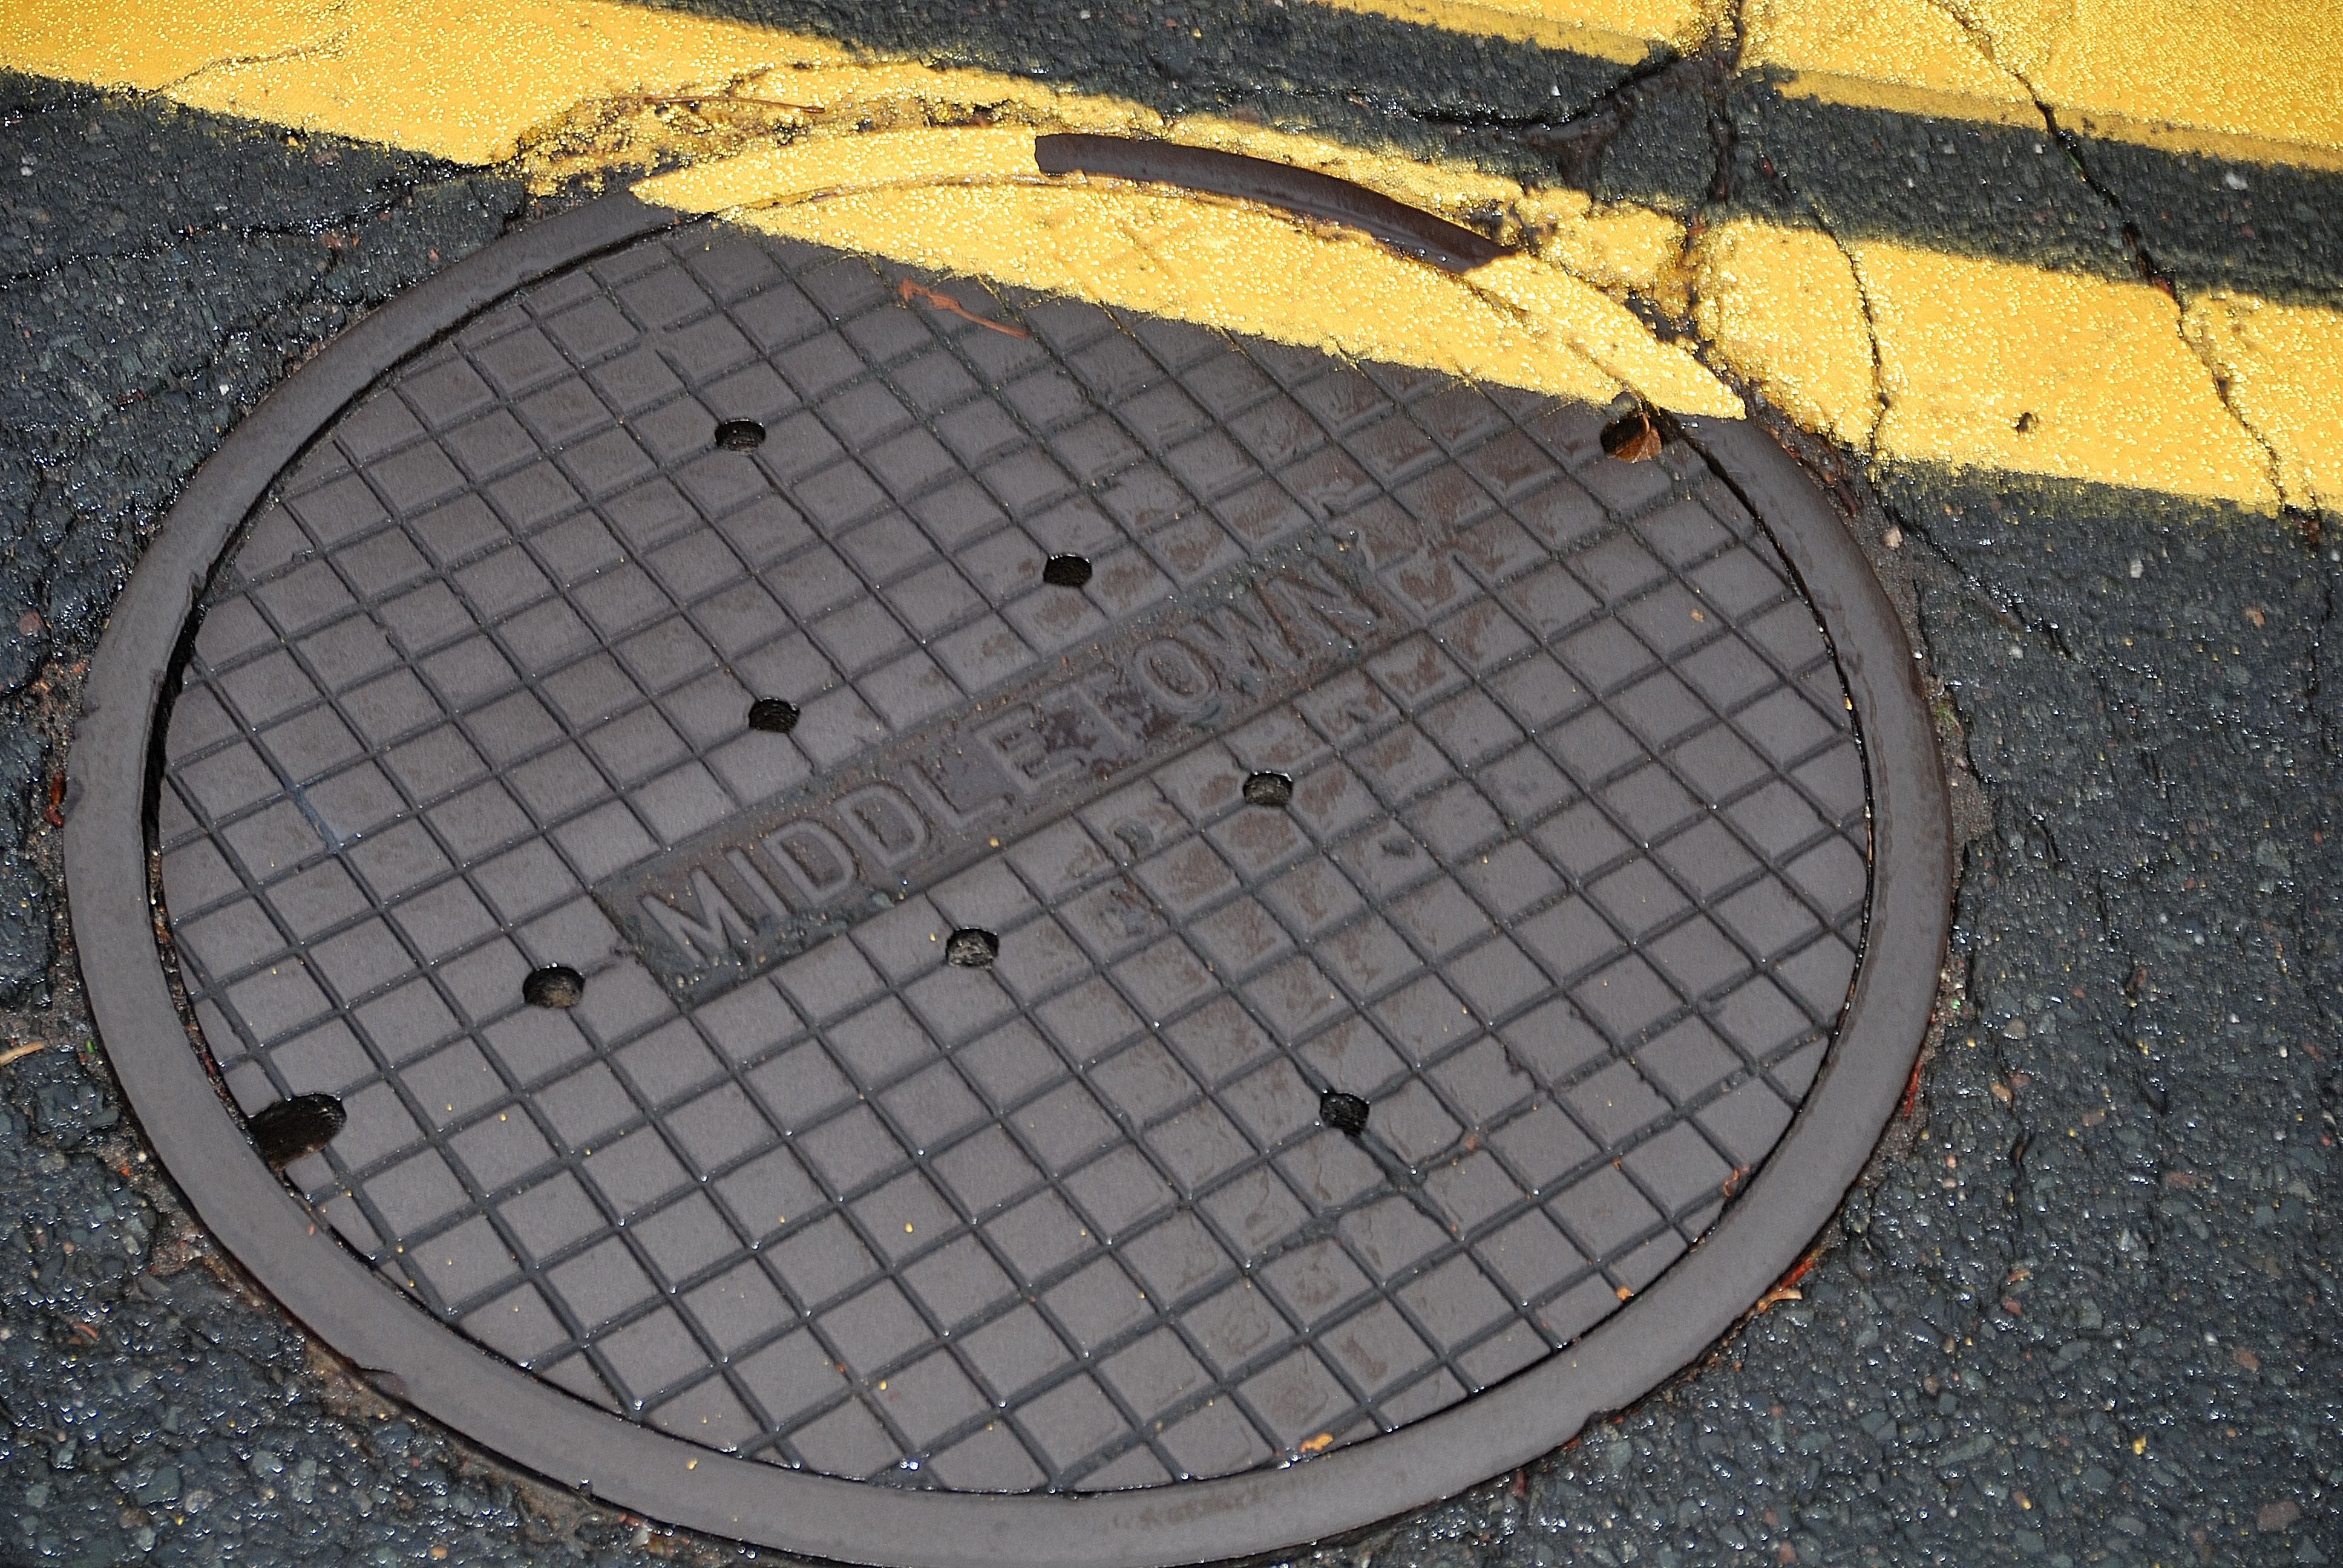Manhole-Closed: (63, 91, 2037, 1568)
